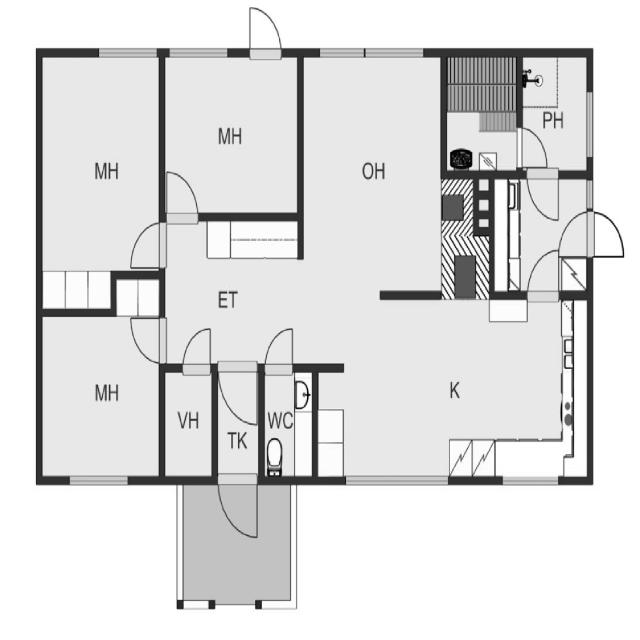door: (216, 472, 261, 543), (218, 365, 262, 430), (244, 2, 287, 64), (162, 164, 202, 226), (526, 246, 564, 306), (586, 208, 628, 261), (128, 313, 168, 365), (126, 219, 165, 271), (262, 322, 298, 376), (527, 170, 561, 224), (180, 324, 214, 376), (514, 124, 550, 172), (559, 212, 592, 258)
window: (338, 467, 454, 494), (316, 42, 427, 62), (62, 470, 133, 491), (497, 470, 562, 492), (94, 43, 160, 62), (166, 43, 232, 62), (362, 45, 424, 61), (584, 89, 596, 161), (584, 177, 594, 207)
zone: (315, 302, 582, 474), (302, 55, 444, 299), (38, 54, 164, 303), (161, 52, 300, 219), (38, 310, 162, 481), (518, 55, 589, 176), (444, 56, 518, 170), (262, 367, 314, 483), (163, 367, 213, 482)
